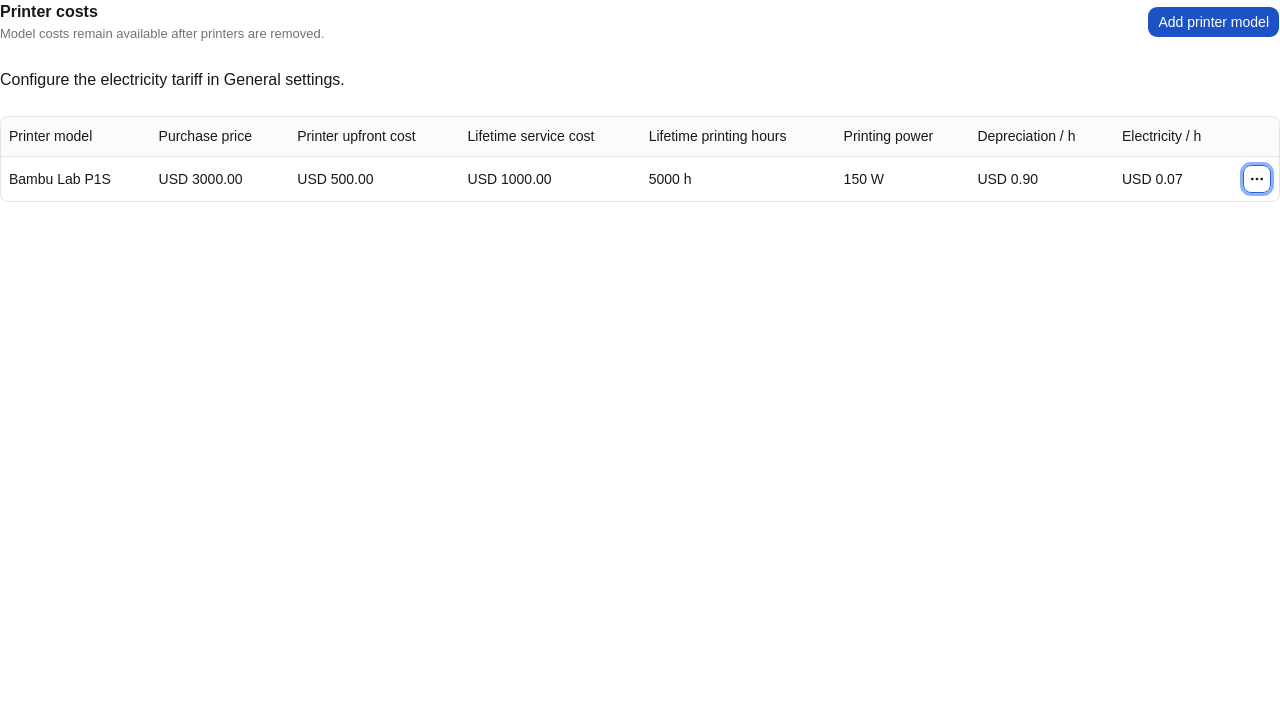
Test: disables repeated removal while the request is pending
This screenshot has width=1280, height=720.
Press Enter End Enter
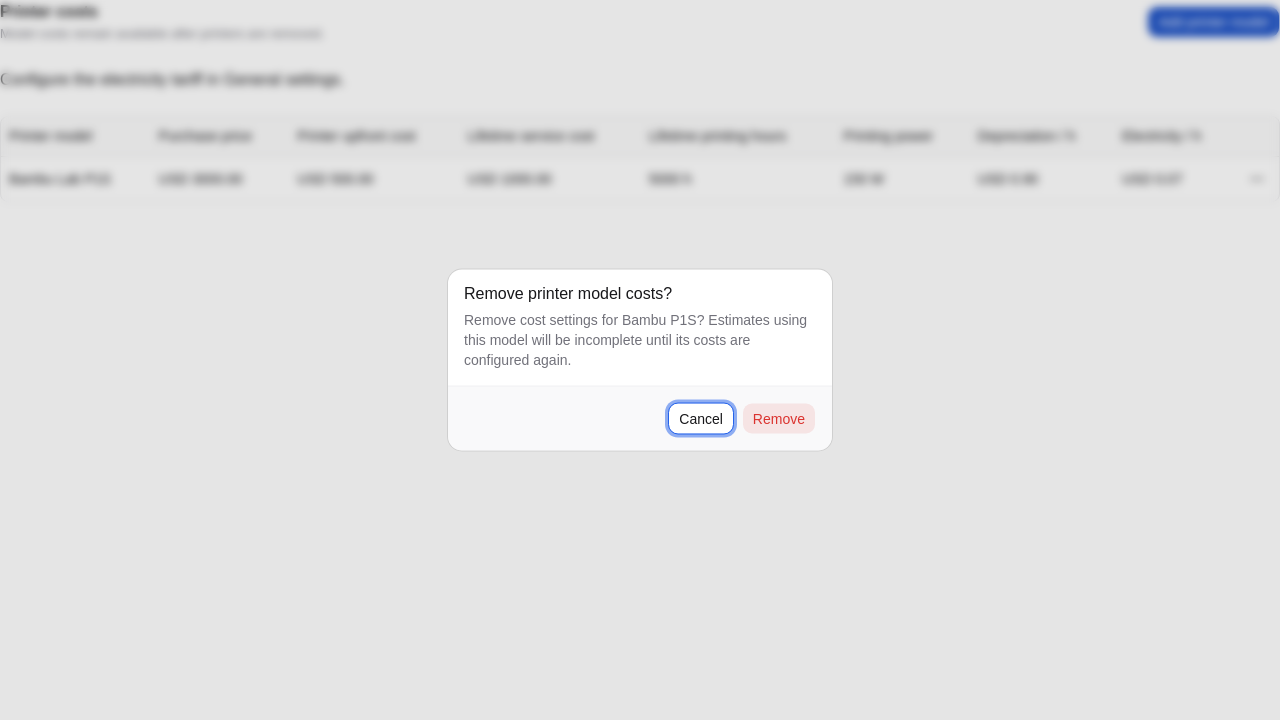
Expected: the dialog is shown, [448,270,832,450]
Click the button "Remove" at (779, 418), box [742,402,816,434]
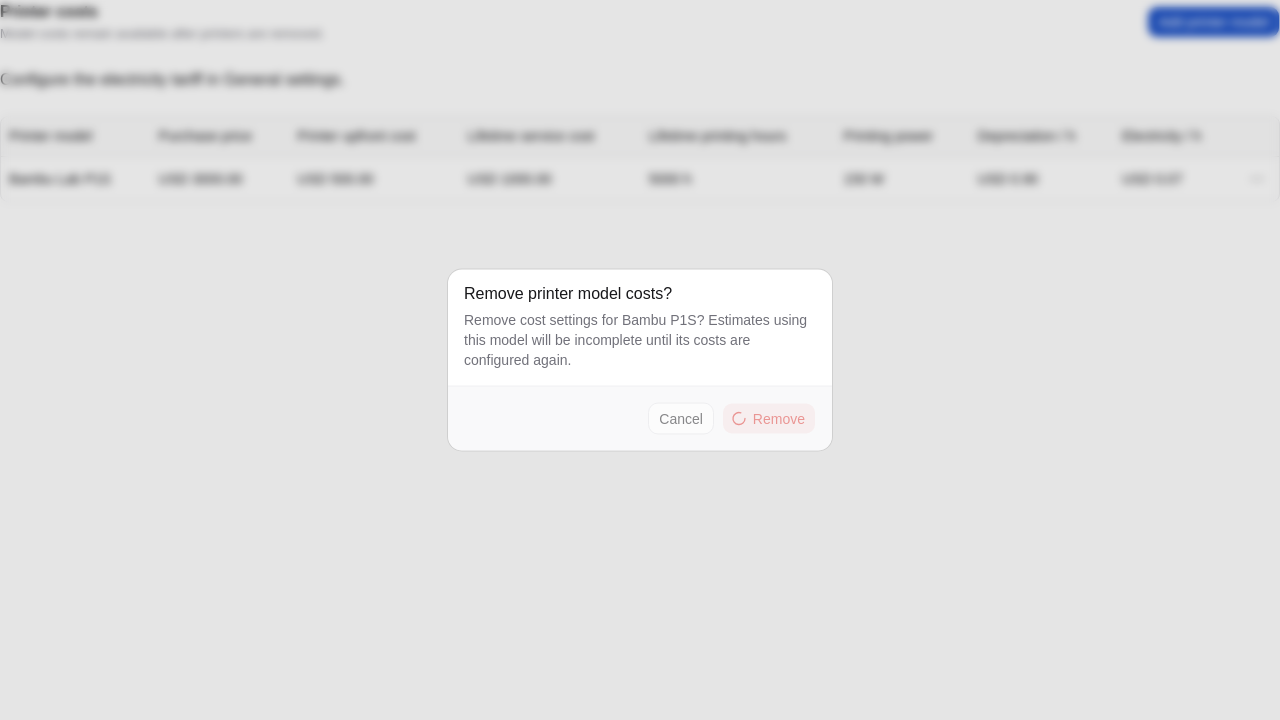
Expected: the button "Remove" is disabled
Expected: the button "Cancel" is disabled, [648,402,714,434]
Click the button "Remove" at (769, 418), box [722,402,816,434]
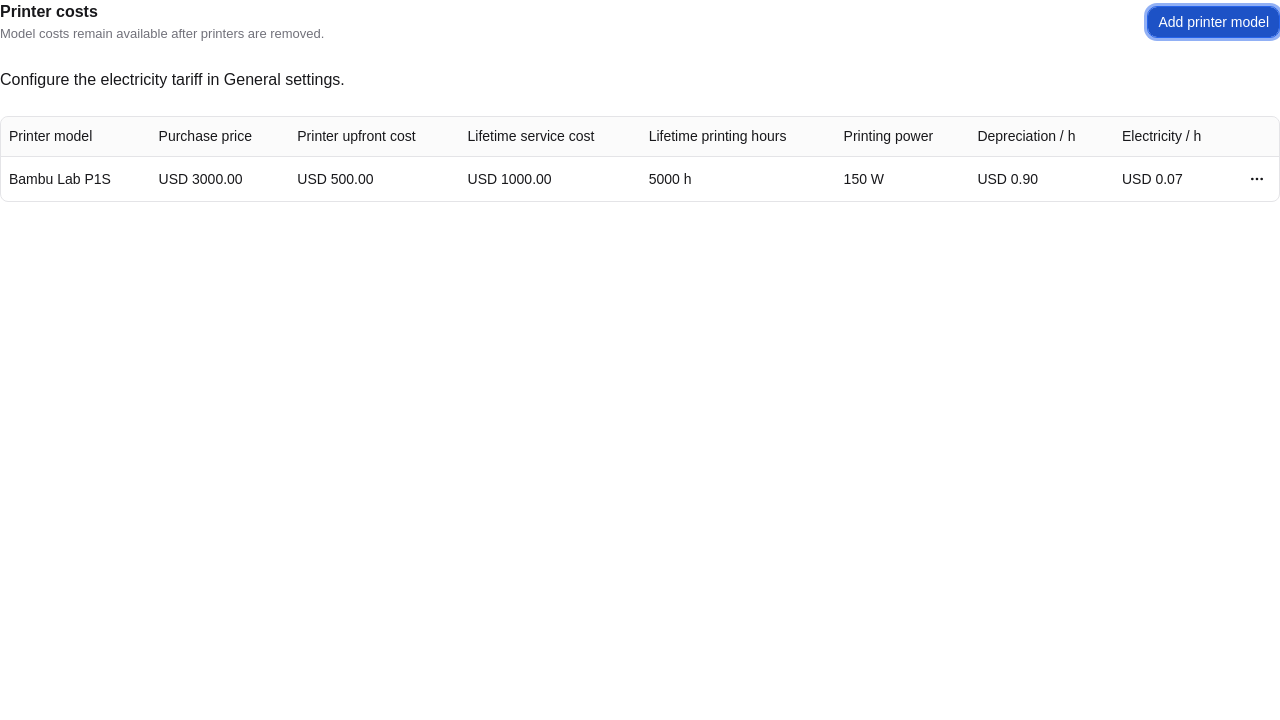
Expected: the dialog is gone
